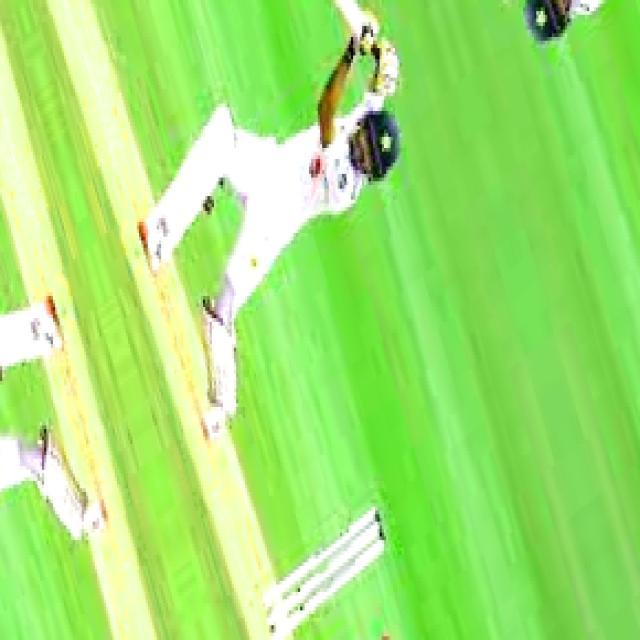bat: (330, 0, 380, 34)
